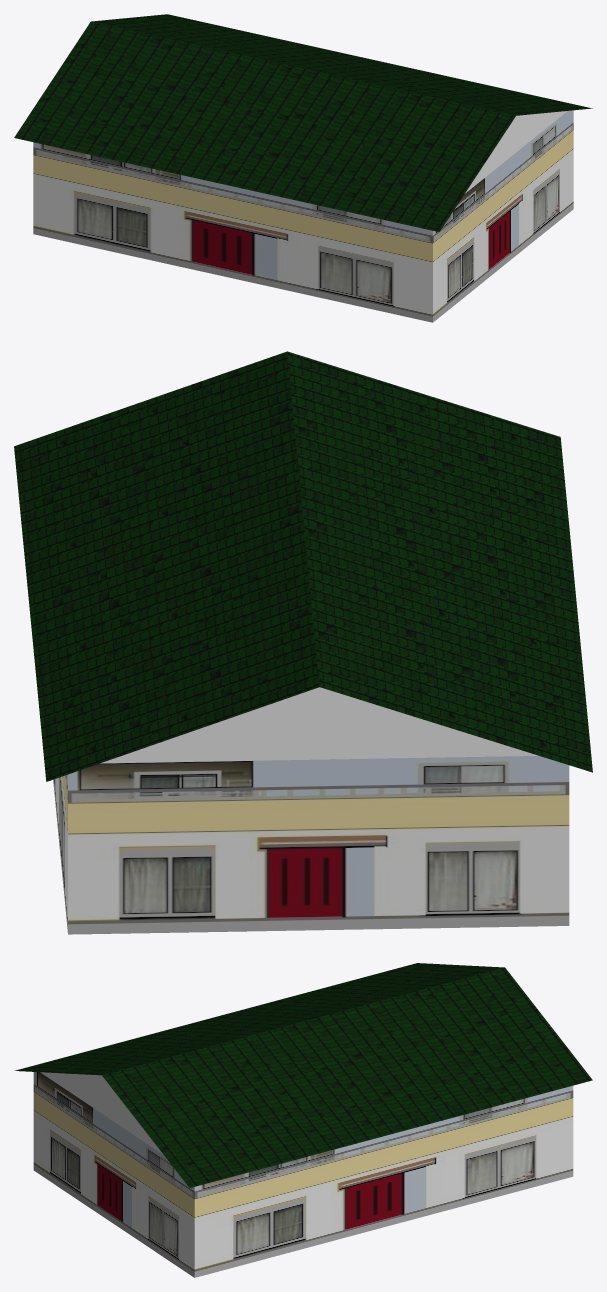
3 renders of one model, top to bottom at view 1: azimuth 30°, elevation 25°; view 2: azimuth 150°, elevation 25°; view 3: azimuth 270°, elevation 25°, orthographic. The views are drawn at different scales.
Visible parts, largest first — view 1: CityEngineMaterial_13_m, CityEngineMaterial_15_m, CityEngineMaterial_3_m; view 2: CityEngineMaterial_13_m, CityEngineMaterial_15_m, CityEngineMaterial_3_m; view 3: CityEngineMaterial_13_m, CityEngineMaterial_15_m, CityEngineMaterial_3_m.
Part boxes in pixels (x1=…): CityEngineMaterial_13_m: x1=14, y1=14, x2=592, y2=232; CityEngineMaterial_15_m: x1=33, y1=110, x2=573, y2=322; CityEngineMaterial_3_m: x1=465, y1=111, x2=567, y2=193; CityEngineMaterial_13_m: x1=14, y1=351, x2=592, y2=781; CityEngineMaterial_15_m: x1=53, y1=756, x2=569, y2=934; CityEngineMaterial_3_m: x1=101, y1=687, x2=538, y2=763; CityEngineMaterial_13_m: x1=14, y1=963, x2=592, y2=1187; CityEngineMaterial_15_m: x1=33, y1=1072, x2=573, y2=1277; CityEngineMaterial_3_m: x1=40, y1=1072, x2=162, y2=1153.
Bounding box in the file's own units: 36.7 × 11.56 × 39.88.
